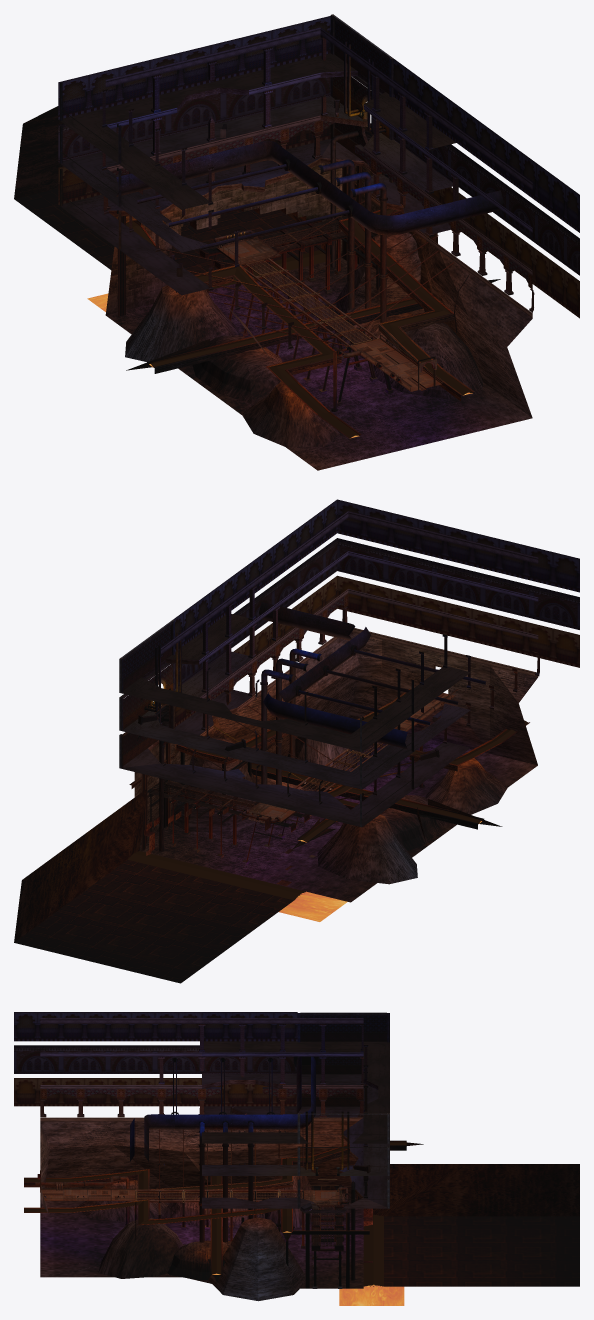
File: 10Lava.gltf
The picture shows the model from 3 angles, top to bottom: view 1: azimuth 30°, elevation 25°; view 2: azimuth 150°, elevation 25°; view 3: azimuth 270°, elevation 25°; orthographic projection. The views are drawn at different scales.
Visible parts, largest first — view 1: stg030_o14_Mesh_16, stg030_o14_Mesh_12, stg030_o14_Mesh_24, stg030_o14_Mesh_1, stg030_o14_Mesh_18, stg030_o13_Mesh_15, stg030_o13_Mesh_7, stg030_o14_Mesh_17, stg030_g13_Mesh_0, stg030_o14_Mesh_31, stg030_o14_Mesh_21, stg030_o14_Mesh_9 (+12 smaller); view 2: stg030_o14_Mesh_16, stg030_o14_Mesh_12, stg030_o14_Mesh_24, stg030_o14_Mesh_31, stg030_o14_Mesh_17, stg030_o13_Mesh_15, stg030_o14_Mesh_1, stg030_o13_Mesh_7, stg030_o14_Mesh_18, stg030_g13_Mesh_0, stg030_o14_Mesh_9, stg030_o14_Mesh_27 (+8 smaller); view 3: stg030_o14_Mesh_16, stg030_o14_Mesh_31, stg030_o14_Mesh_17, stg030_o14_Mesh_12, stg030_o14_Mesh_24, stg030_o14_Mesh_1, stg030_o14_Mesh_18, stg030_o13_Mesh_15, stg030_o13_Mesh_7, stg030_g13_Mesh_0, stg030_o14_Mesh_27, stg030_o14_Mesh_14 (+11 smaller).
Part boxes in pixels (x1=…): stg030_o14_Mesh_16: x1=14, y1=106, x2=532, y2=470; stg030_o14_Mesh_12: x1=58, y1=53, x2=456, y2=403; stg030_o14_Mesh_24: x1=58, y1=16, x2=579, y2=318; stg030_o14_Mesh_1: x1=116, y1=41, x2=503, y2=410; stg030_o14_Mesh_18: x1=118, y1=166, x2=474, y2=437; stg030_o13_Mesh_15: x1=58, y1=77, x2=579, y2=275; stg030_o13_Mesh_7: x1=105, y1=27, x2=532, y2=406; stg030_o14_Mesh_17: x1=226, y1=123, x2=532, y2=417; stg030_g13_Mesh_0: x1=126, y1=111, x2=472, y2=438; stg030_o14_Mesh_31: x1=14, y1=188, x2=424, y2=375; stg030_o14_Mesh_21: x1=105, y1=163, x2=342, y2=315; stg030_o14_Mesh_9: x1=102, y1=39, x2=534, y2=345; stg030_o14_Mesh_16: x1=14, y1=733, x2=537, y2=942; stg030_o14_Mesh_12: x1=122, y1=605, x2=537, y2=873; stg030_o14_Mesh_24: x1=173, y1=499, x2=579, y2=726; stg030_o14_Mesh_31: x1=14, y1=715, x2=422, y2=983; stg030_o14_Mesh_17: x1=134, y1=632, x2=537, y2=845; stg030_o13_Mesh_15: x1=175, y1=538, x2=579, y2=689; stg030_o14_Mesh_1: x1=145, y1=602, x2=485, y2=851; stg030_o13_Mesh_7: x1=161, y1=511, x2=538, y2=864; stg030_o14_Mesh_18: x1=129, y1=664, x2=529, y2=861; stg030_g13_Mesh_0: x1=128, y1=689, x2=528, y2=900; stg030_o14_Mesh_9: x1=142, y1=589, x2=539, y2=801; stg030_o14_Mesh_27: x1=123, y1=596, x2=344, y2=754; stg030_o14_Mesh_16: x1=40, y1=1164, x2=579, y2=1301; stg030_o14_Mesh_31: x1=65, y1=1190, x2=579, y2=1286; stg030_o14_Mesh_17: x1=40, y1=1121, x2=357, y2=1216; stg030_o14_Mesh_12: x1=181, y1=1041, x2=389, y2=1286; stg030_o14_Mesh_24: x1=14, y1=1012, x2=297, y2=1106; stg030_o14_Mesh_1: x1=35, y1=1056, x2=355, y2=1280; stg030_o14_Mesh_18: x1=24, y1=1122, x2=406, y2=1288; stg030_o13_Mesh_15: x1=14, y1=1045, x2=296, y2=1073; stg030_o13_Mesh_7: x1=40, y1=1018, x2=363, y2=1288; stg030_g13_Mesh_0: x1=24, y1=1141, x2=406, y2=1286; stg030_o14_Mesh_27: x1=47, y1=1015, x2=386, y2=1097; stg030_o14_Mesh_14: x1=38, y1=1032, x2=386, y2=1199.
Bounding box in the file's own units: 138 × 84.44 × 236.
37 materials, 36 textured.
